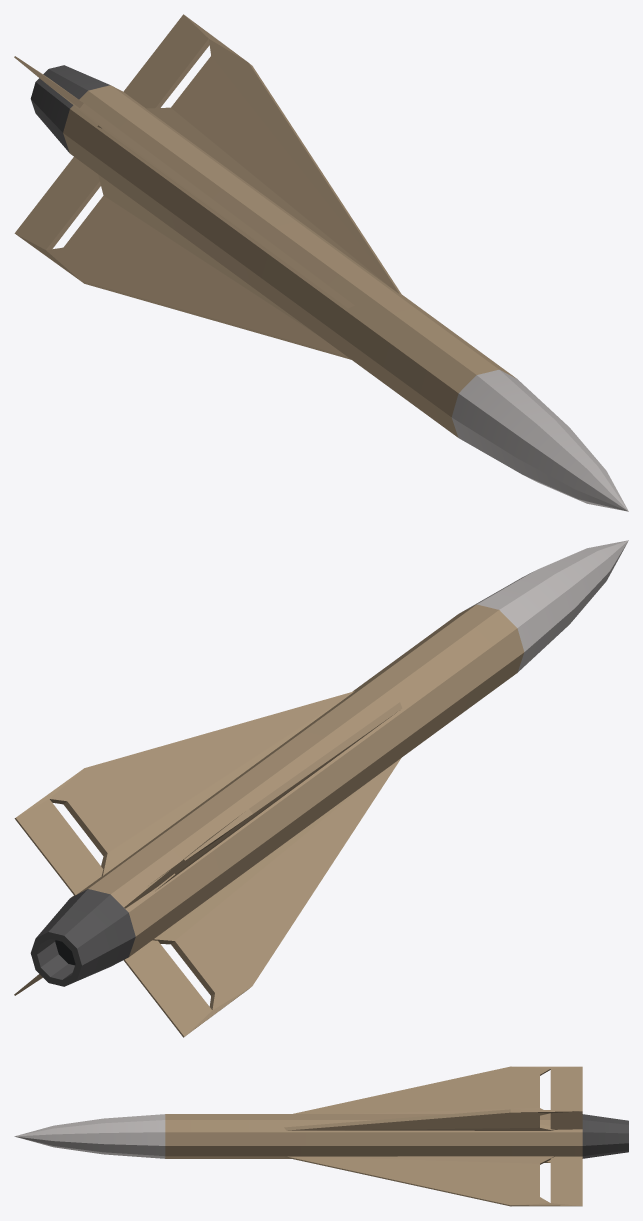
The model's file is SM_Prop_Missle_02.glb.
3 renders of one model, top to bottom at view 1: azimuth 30°, elevation 25°; view 2: azimuth 150°, elevation 25°; view 3: azimuth 270°, elevation 25°, orthographic. The views are drawn at different scales.
Parts seen in each view (by area): view 1: SM_Prop_Missle_02; view 2: SM_Prop_Missle_02; view 3: SM_Prop_Missle_02.
Boxes of the visible parts, x1,y1,x2,y2 form: SM_Prop_Missle_02: (14,14,628,511); SM_Prop_Missle_02: (14,540,628,1037); SM_Prop_Missle_02: (14,1066,628,1206).
Bounding box in the file's own units: 0.8786 × 0.8786 × 5.03.
Materials: 1 (1 with a texture image).
